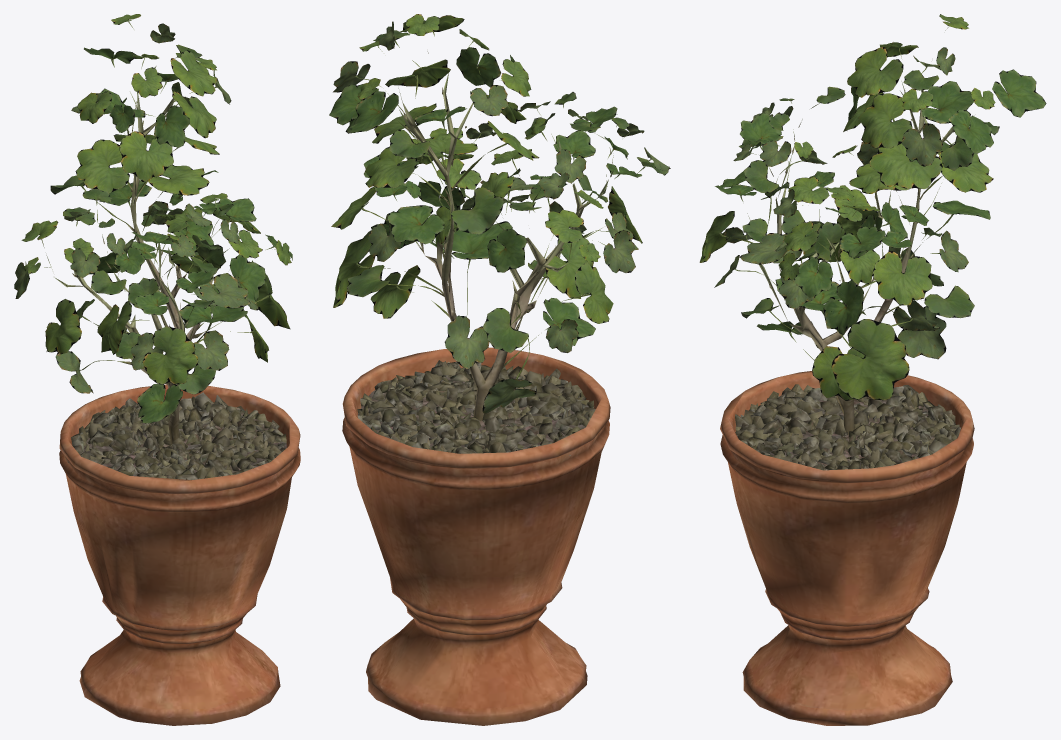
The model's file is potted_plant_01.glb.
3 renders of one model, left to right at view 1: azimuth 30°, elevation 25°; view 2: azimuth 150°, elevation 25°; view 3: azimuth 270°, elevation 25°, orthographic. The views are drawn at different scales.
Parts seen in each view (by area): view 1: potted_plant_01_stem, potted_plant_01_leaves; view 2: potted_plant_01_stem, potted_plant_01_leaves; view 3: potted_plant_01_stem, potted_plant_01_leaves.
Boxes of the visible parts, box(x1,y1,x2,y2) form: potted_plant_01_stem: box(54, 91, 300, 725); potted_plant_01_leaves: box(14, 14, 292, 423); potted_plant_01_stem: box(342, 72, 610, 725); potted_plant_01_leaves: box(329, 14, 670, 413); potted_plant_01_stem: box(720, 81, 974, 725); potted_plant_01_leaves: box(699, 14, 1046, 400).
Size of the model in its own units: 0.5866 by 1.34 by 0.6336.
2 materials, 2 textured.
